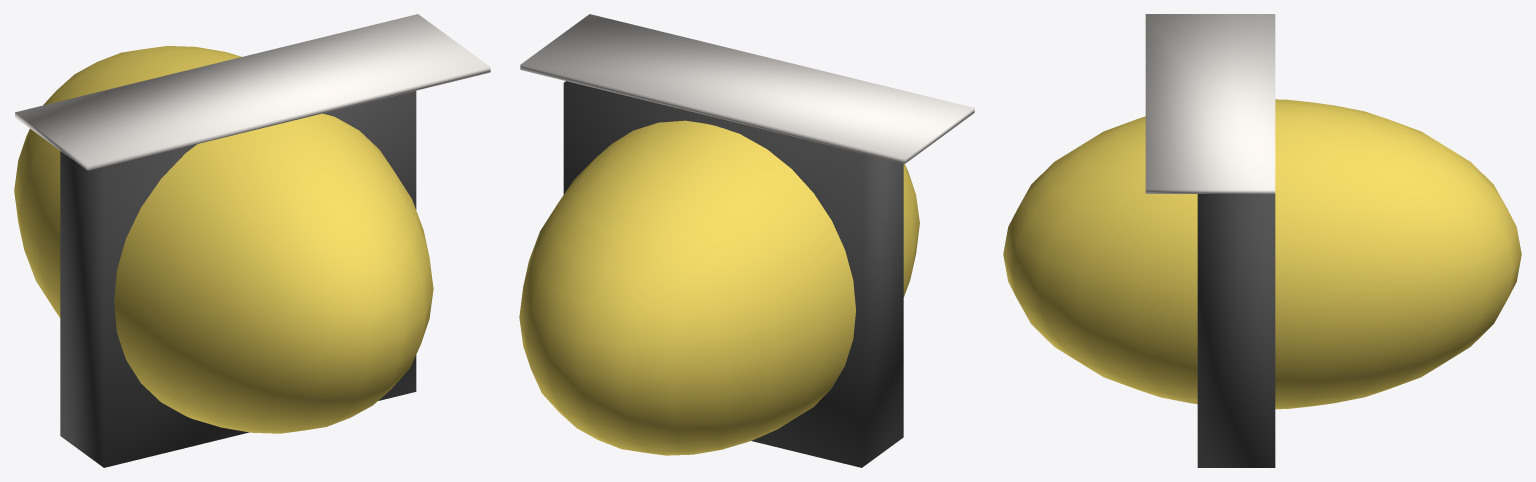
File: bee.glb
The picture shows the model from 3 angles, left to right: view 1: azimuth 30°, elevation 25°; view 2: azimuth 150°, elevation 25°; view 3: azimuth 270°, elevation 25°; orthographic projection. The views are drawn at different scales.
Parts seen in each view (by area): view 1: abdomen, wings, stripe; view 2: abdomen, stripe, wings; view 3: abdomen, wings, stripe.
Boxes of the visible parts, <box> form: abdomen: <box>14,46,433,433</box>; wings: <box>15,14,490,170</box>; stripe: <box>60,91,416,467</box>; abdomen: <box>519,120,919,455</box>; stripe: <box>563,81,903,467</box>; wings: <box>520,14,974,163</box>; abdomen: <box>1003,99,1521,409</box>; wings: <box>1145,14,1275,193</box>; stripe: <box>1197,194,1275,467</box>.
Bounding box in the file's own units: 0.8 × 0.635 × 1.
